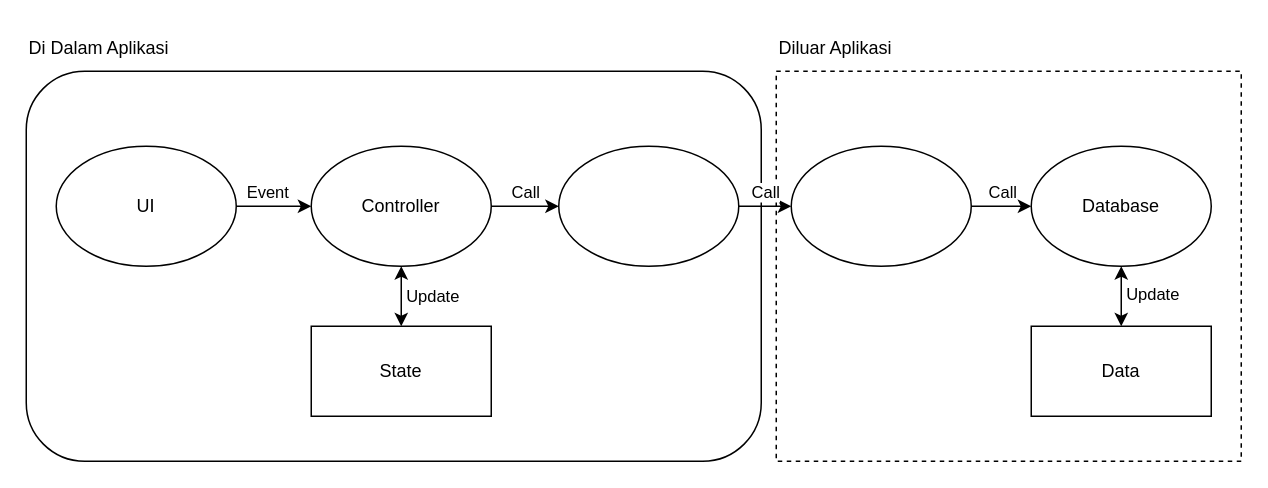
This 1268x488 diagram has some shape labels left out. The centre of each missing label's shape, as x and y in pixels:
"Provider" goes at point (648, 205).
"Server" goes at point (880, 205).
